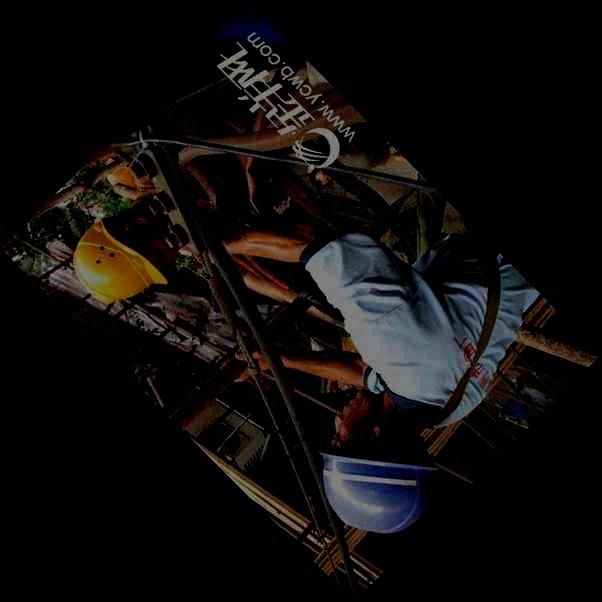helmet: (317, 390, 439, 534), (71, 206, 179, 306)
